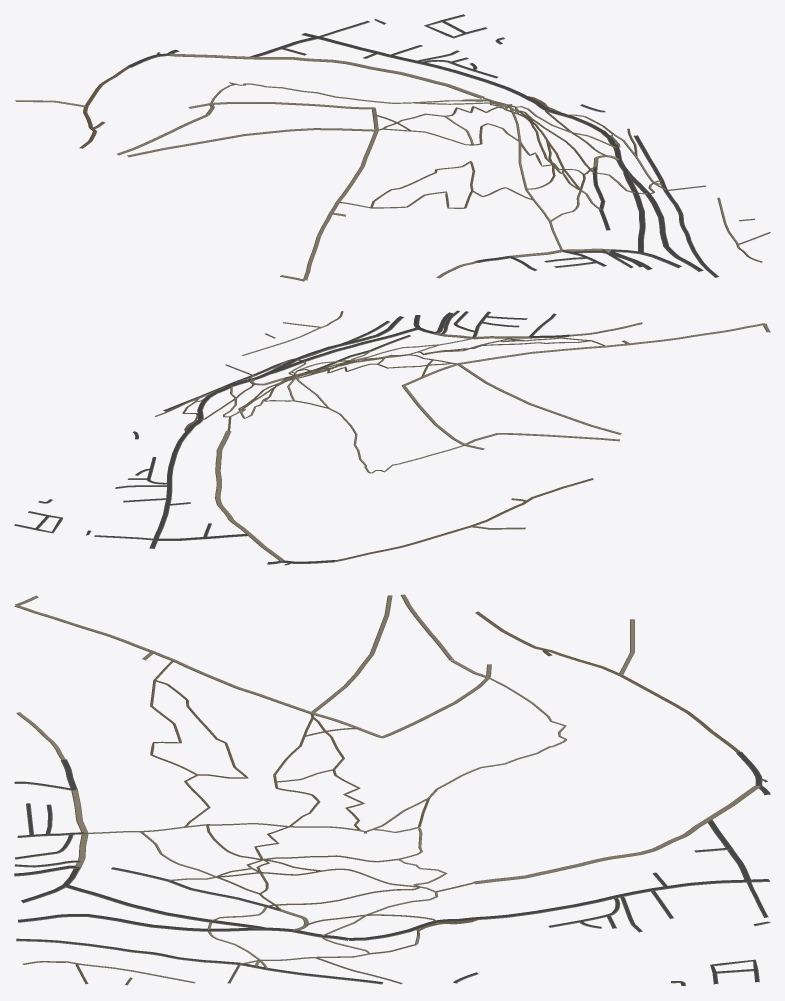
The picture shows the model from 3 angles, top to bottom: view 1: azimuth 30°, elevation 25°; view 2: azimuth 150°, elevation 25°; view 3: azimuth 270°, elevation 25°; orthographic projection. The views are drawn at different scales.
Visible parts, largest first — view 1: roads; view 2: roads; view 3: roads.
Boxes of the visible parts, x1,y1,x2,y2 form: roads: (15,14,770,281); roads: (14,310,770,565); roads: (14,594,770,986).
Size of the model in its own units: 713 by 136 by 807.
